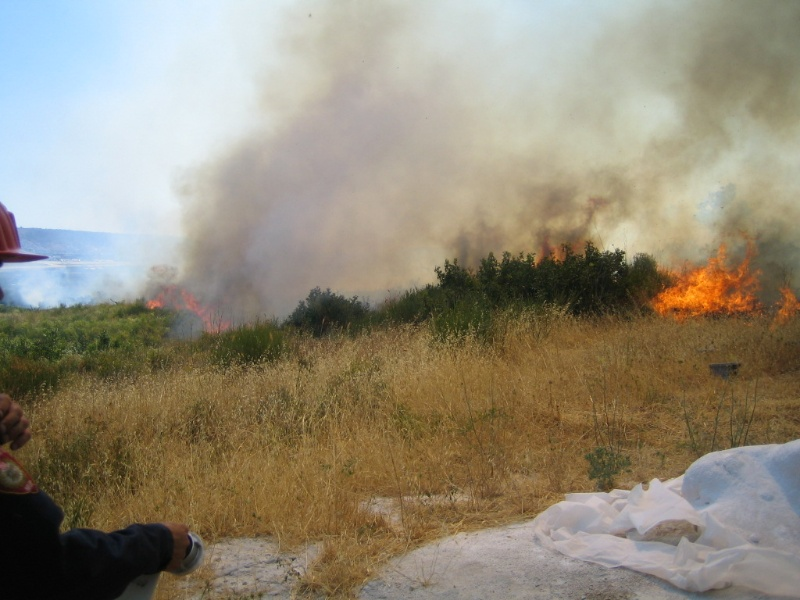smoke: (278, 1, 767, 237)
